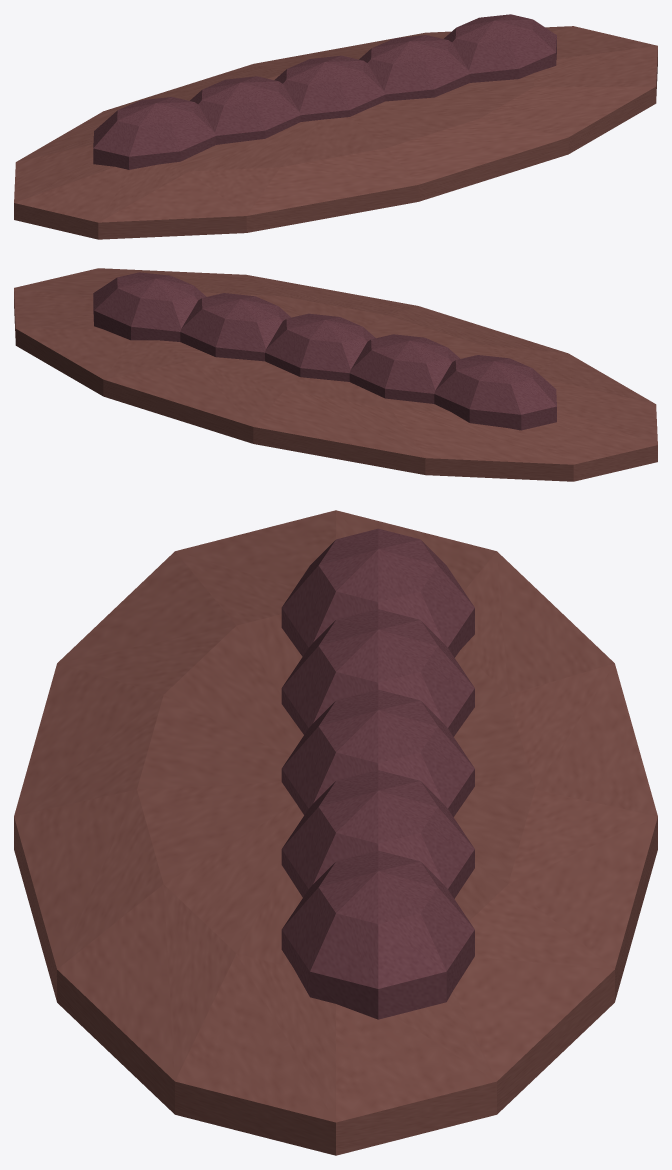
The model's file is wound_patch.obj.
The picture shows the model from 3 angles, top to bottom: view 1: azimuth 30°, elevation 25°; view 2: azimuth 150°, elevation 25°; view 3: azimuth 270°, elevation 25°; orthographic projection. The views are drawn at different scales.
Parts seen in each view (by area): view 1: wound_patch; view 2: wound_patch; view 3: wound_patch.
Boxes of the visible parts, box(x1,y1,x2,y2) form: wound_patch: box(14, 14, 657, 239); wound_patch: box(14, 268, 657, 481); wound_patch: box(14, 510, 657, 1155).
Bounding box in the file's own units: 3.42 × 0.46 × 1.52.
Materials: 1 (1 with a texture image).
